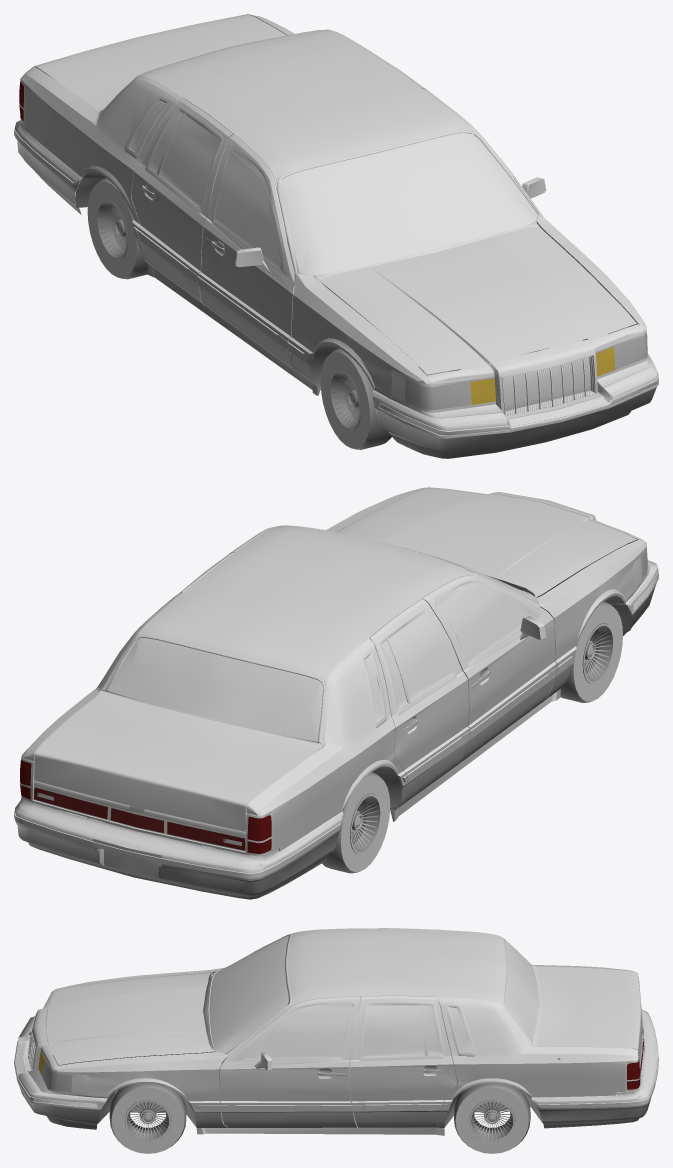
Rendered from голая fbx.fbx.
3 renders of one model, top to bottom at view 1: azimuth 30°, elevation 25°; view 2: azimuth 150°, elevation 25°; view 3: azimuth 270°, elevation 25°, orthographic. The views are drawn at different scales.
Parts seen in each view (by area): view 1: Wheel_RR.001; view 2: Wheel_RR.001; view 3: Wheel_RR.001.
Boxes of the visible parts, box(x1,y1,x2,y2) form: Wheel_RR.001: box(14, 14, 658, 458); Wheel_RR.001: box(14, 487, 658, 899); Wheel_RR.001: box(14, 928, 658, 1153).
Size of the model in its own units: 205 by 129 by 499.
